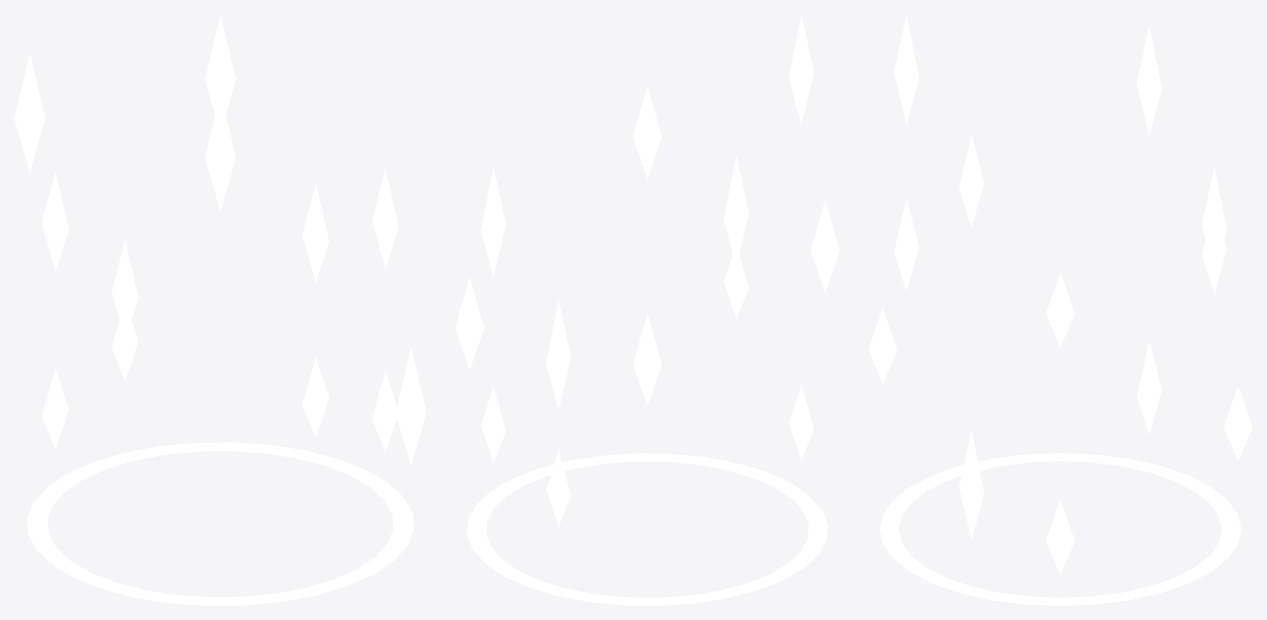
File: buff_aura_steel.glb
3 renders of one model, left to right at view 1: azimuth 30°, elevation 25°; view 2: azimuth 150°, elevation 25°; view 3: azimuth 270°, elevation 25°, orthographic. The views are drawn at different scales.
Parts seen in each view (by area): view 1: buff_aura_steel; view 2: buff_aura_steel; view 3: buff_aura_steel.
Part boxes in pixels (x1,y1,x2,y2): buff_aura_steel: (14, 14, 426, 605); buff_aura_steel: (455, 14, 839, 605); buff_aura_steel: (868, 14, 1252, 605).
Size of the model in its own units: 1.19 by 1.63 by 1.19.
1 material, 1 textured.
